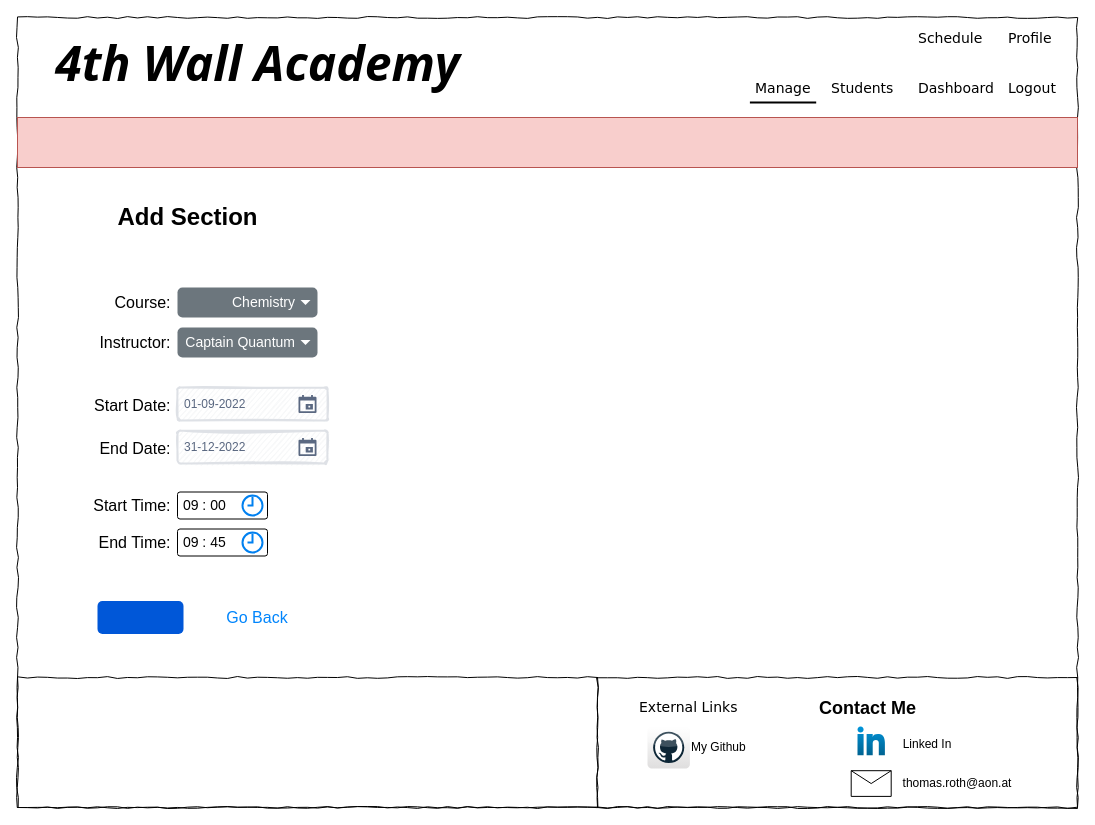
Some shapes in this 1095 by 825 pixel diagram are drawn without their labels. The shapes that lost their labels are listed below. From the top down, each one's centre as x and y in pixels, then its label:
the point at 547,142: Selected Instructor is already assigned to a section at that time
the point at 140,617: Save
the point at 307,742: by Thomas Roth
